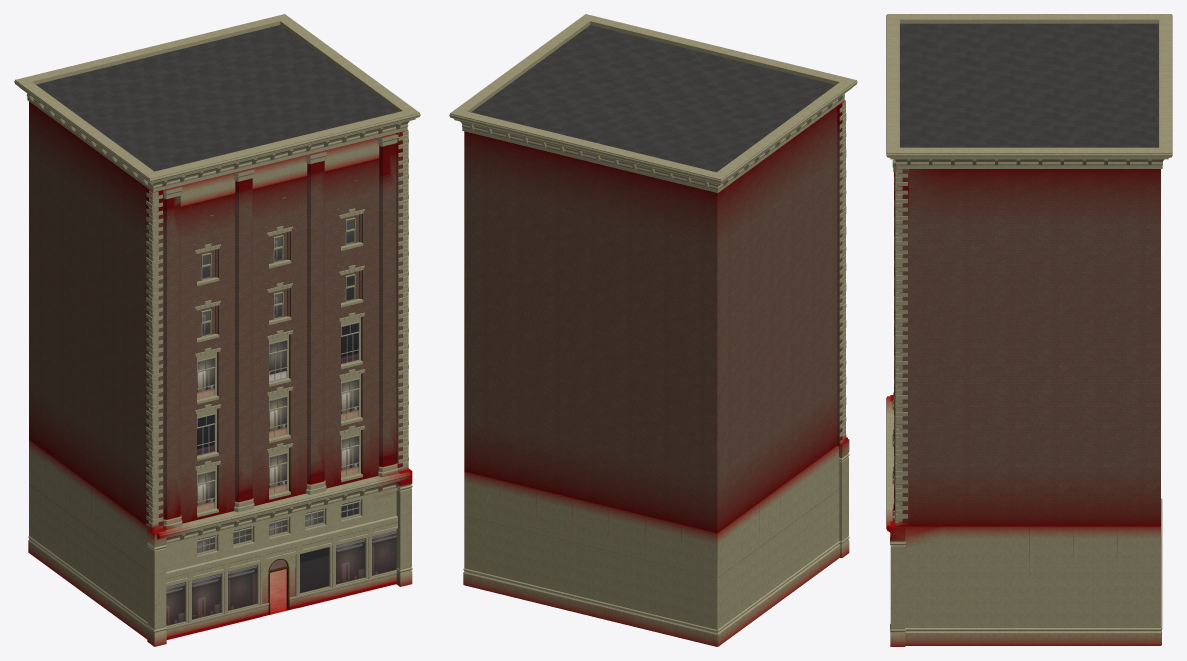
The model's file is Building_Medium_2_001.glb.
3 renders of one model, left to right at view 1: azimuth 30°, elevation 25°; view 2: azimuth 150°, elevation 25°; view 3: azimuth 270°, elevation 25°, orthographic. The views are drawn at different scales.
Visible parts, largest first — view 1: Building_Medium_2.001; view 2: Building_Medium_2.001; view 3: Building_Medium_2.001.
Boxes of the visible parts, x1,y1,x2,y2 form: Building_Medium_2.001: (14, 14, 420, 646); Building_Medium_2.001: (449, 14, 857, 646); Building_Medium_2.001: (886, 14, 1172, 646).
Size of the model in its own units: 15.06 by 25.01 by 13.06.
Materials: 8 (7 with a texture image).
